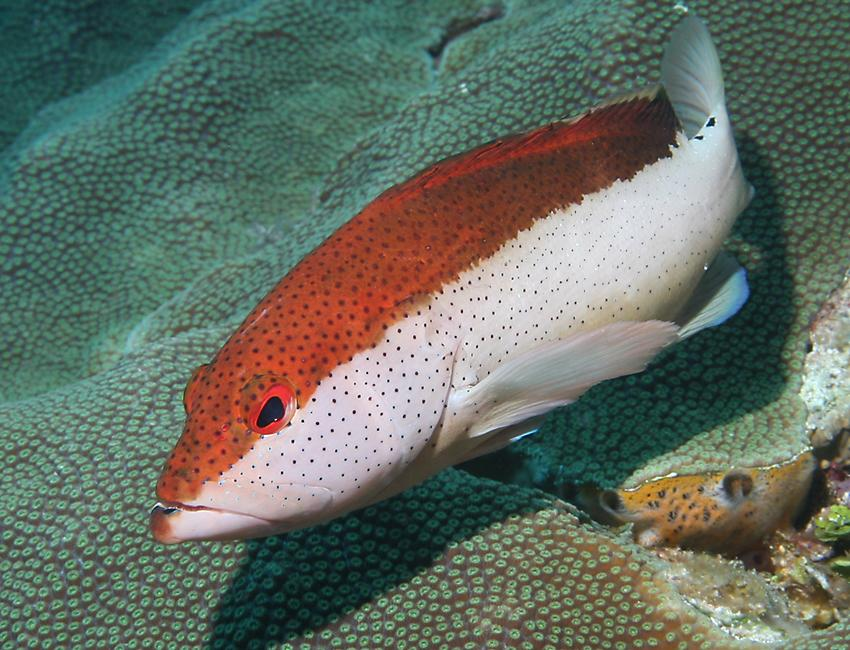Cephalopholis_fulvaw: (123, 17, 763, 556)
